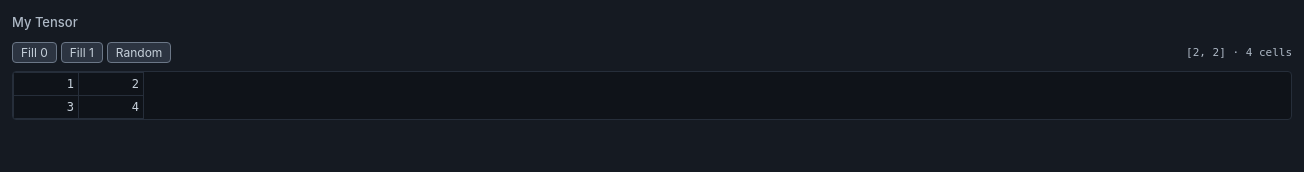
Test: TensorGridEditor — explicit editable grid (2D) › a cleared cell shows the stored number again on blur and stores nothing
This screenshot has width=1304, height=172.
Clear the 1st number field at (46, 84), box [14,73,78,95]
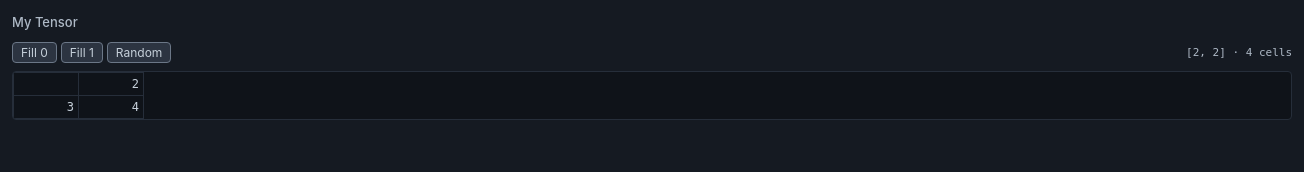
Leave the 1st number field, box [14,73,78,95]
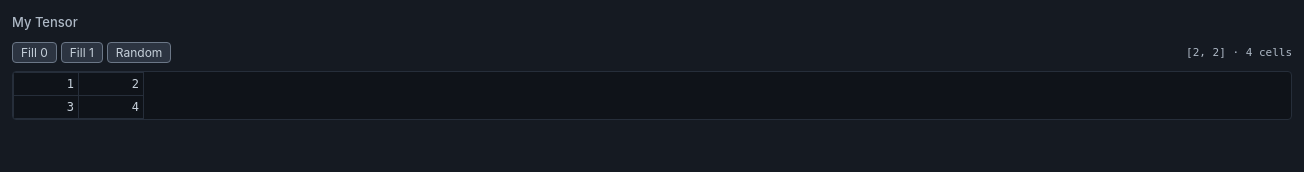
Expected: the 1st number field holds "1", [14,73,78,95]
